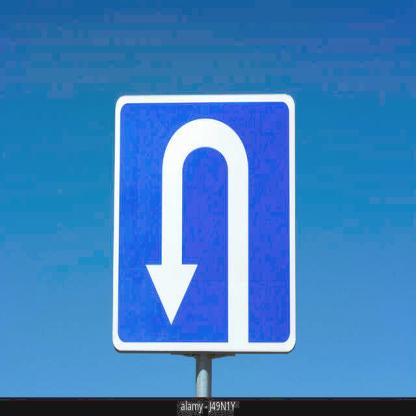U-turn: (116, 90, 297, 350)
